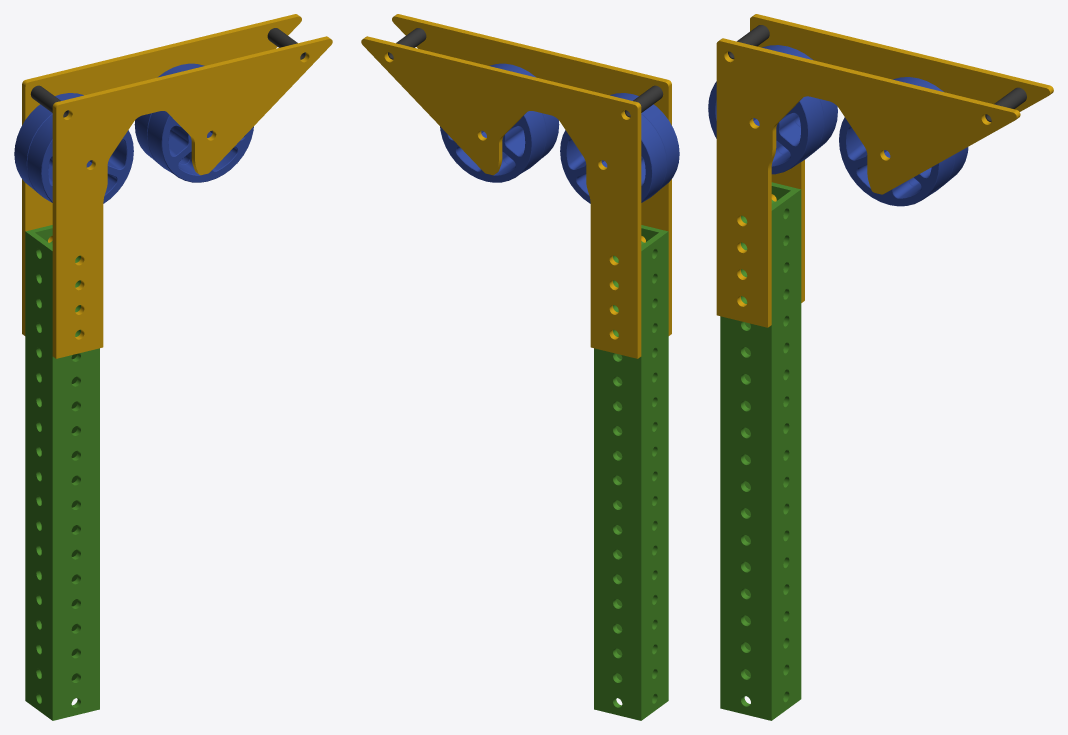
3 renders of one model, left to right at view 1: azimuth 30°, elevation 25°; view 2: azimuth 150°, elevation 25°; view 3: azimuth 330°, elevation 25°, orthographic. The views are drawn at different scales.
Visible parts, largest first — view 1: Tube 1"x1"x9.5", Part 4, Part 5, 2" Compliant Wheel (50A, 3/4" Wide, 3/8" Hex Stretch Bore) (×4); view 2: Tube 1"x1"x9.5", Part 5, Part 4, 2" Compliant Wheel (50A, 3/4" Wide, 3/8" Hex Stretch Bore) (×4); view 3: Tube 1"x1"x9.5", Part 4, Part 5, 2" Compliant Wheel (50A, 3/4" Wide, 3/8" Hex Stretch Bore) (×4).
Part boxes in pixels (<box>): Tube 1"x1"x9.5": <box>25,225,99,720</box>; Part 4: <box>52,36,332,358</box>; Part 5: <box>22,14,301,335</box>; 2" Compliant Wheel (50A, 3/4" Wide, 3/8" Hex Stretch Bore) (×4): <box>14,63,253,203</box>; Tube 1"x1"x9.5": <box>594,225,668,720</box>; Part 5: <box>361,36,641,358</box>; Part 4: <box>392,14,671,335</box>; 2" Compliant Wheel (50A, 3/4" Wide, 3/8" Hex Stretch Bore) (×4): <box>440,63,679,203</box>; Tube 1"x1"x9.5": <box>720,182,801,720</box>; Part 4: <box>716,38,1020,327</box>; Part 5: <box>750,14,1053,302</box>; 2" Compliant Wheel (50A, 3/4" Wide, 3/8" Hex Stretch Bore) (×4): <box>708,45,968,206</box>.
Size of the model in its own units: 0.1553 by 0.3175 by 0.0318.
